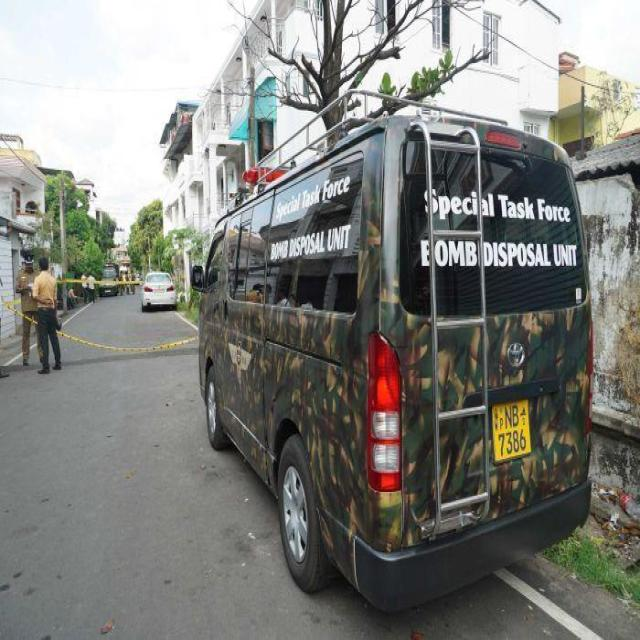license-plate: (490, 396, 531, 458)
